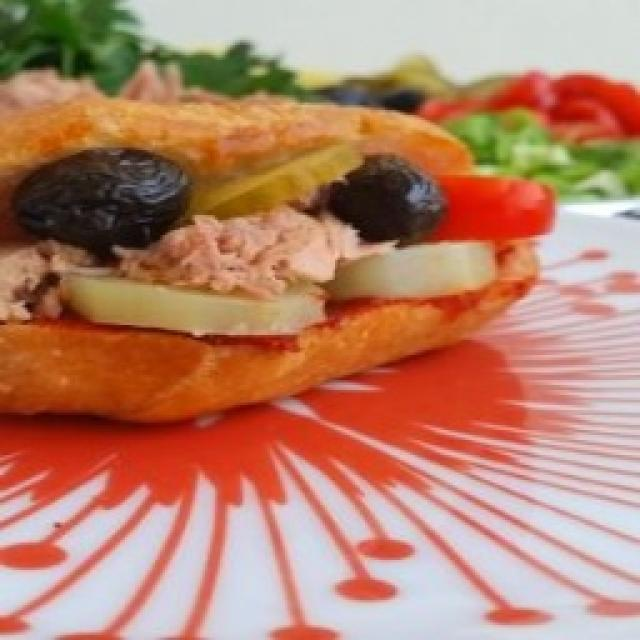Frecasse: (0, 68, 558, 422)
